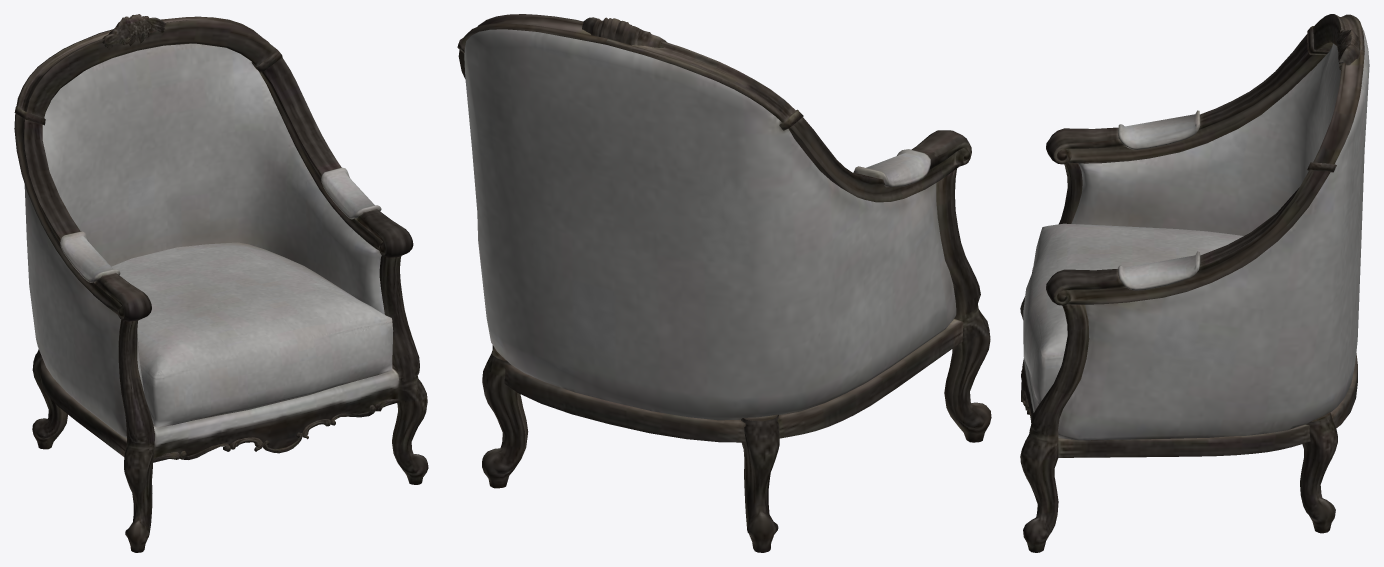
The model's file is ArmChair_01.glb.
The picture shows the model from 3 angles, left to right: view 1: azimuth 30°, elevation 25°; view 2: azimuth 150°, elevation 25°; view 3: azimuth 270°, elevation 25°; orthographic projection. The views are drawn at different scales.
Visible parts, largest first — view 1: ArmChair_01; view 2: ArmChair_01; view 3: ArmChair_01.
Boxes of the visible parts, left/top/right/bottom form: ArmChair_01: left=14, top=14, right=428, bottom=552; ArmChair_01: left=457, top=14, right=991, bottom=552; ArmChair_01: left=1020, top=14, right=1369, bottom=552.
Bounding box in the file's own units: 0.8486 × 1.07 × 0.7659.
1 material, 1 textured.
